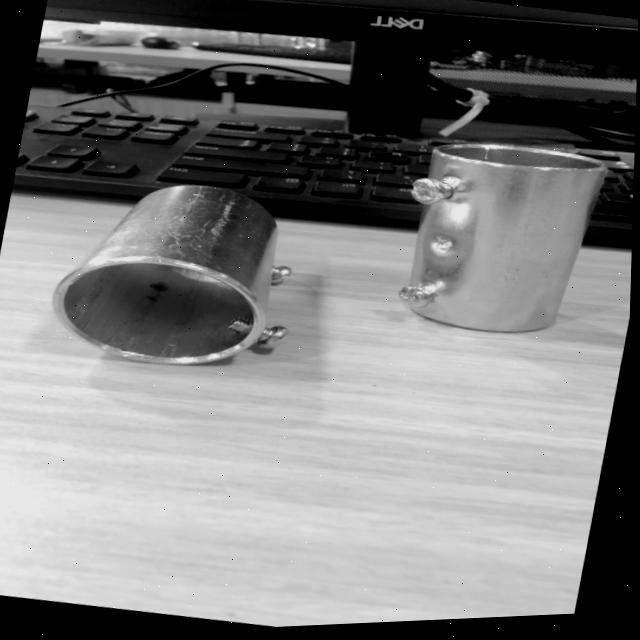Co_Lon: (47, 180, 289, 371)
Co_Nho: (396, 133, 607, 342)
